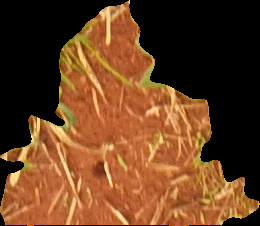soil: (2, 2, 259, 224)
